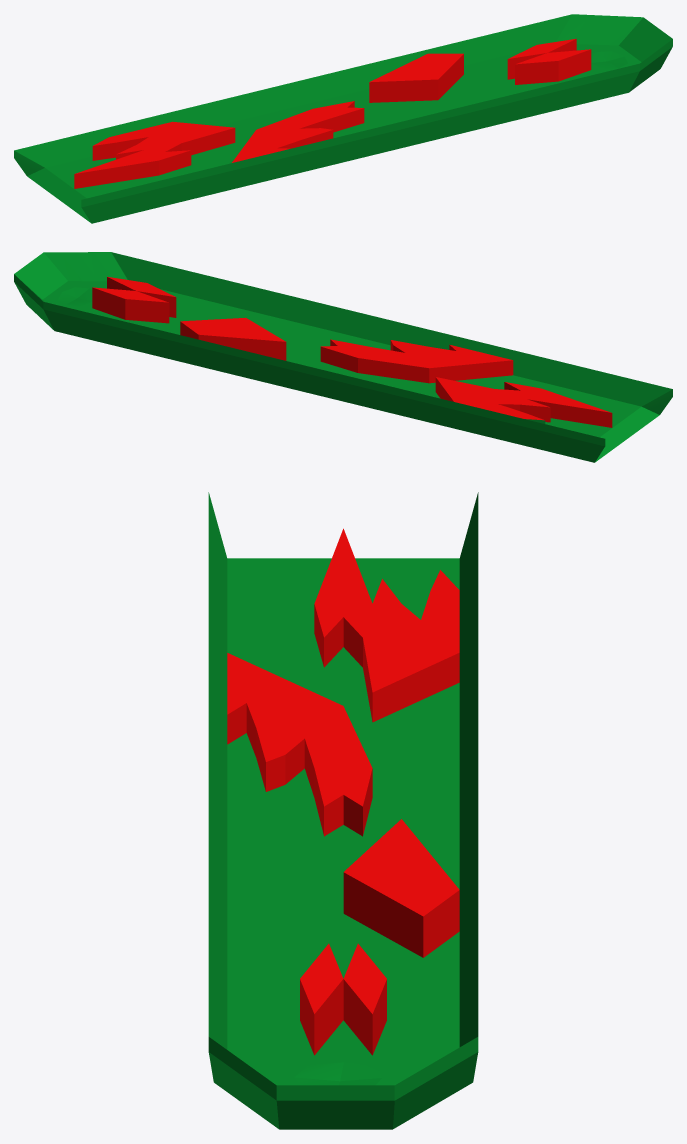
File: ObjectMap.obj
3 views of the same model, one above another, from view 1: azimuth 30°, elevation 25°; view 2: azimuth 150°, elevation 25°; view 3: azimuth 270°, elevation 25° (orthographic). The views are drawn at different scales.
Visible parts, largest first — view 1: ObjectMap; view 2: ObjectMap; view 3: ObjectMap.
Boxes of the visible parts, box(x1,y1,x2,y2) form: ObjectMap: box(14, 14, 672, 223); ObjectMap: box(14, 252, 672, 462); ObjectMap: box(208, 492, 478, 1129).
Size of the model in its own units: 86.8 by 3.83 by 16.65.
